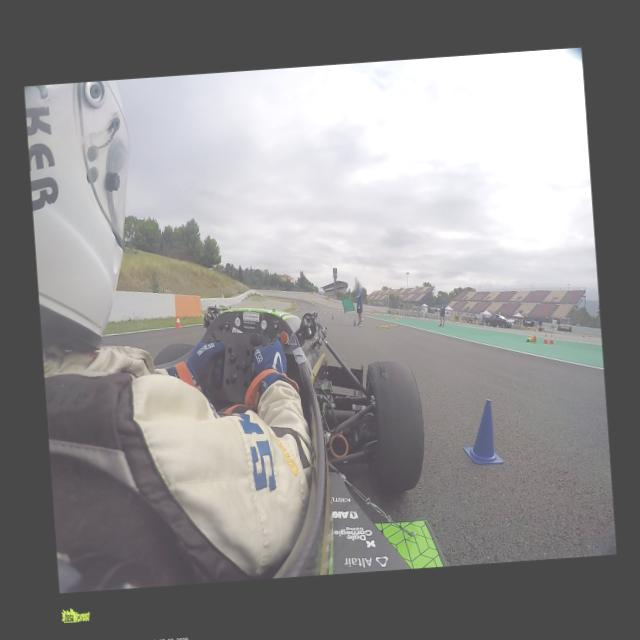blue_cone: (467, 398, 495, 461), (352, 318, 355, 326), (332, 314, 334, 319)
orange_cone: (174, 316, 181, 328), (548, 334, 554, 344), (542, 334, 548, 344)
yellow_cone: (524, 334, 534, 342)
